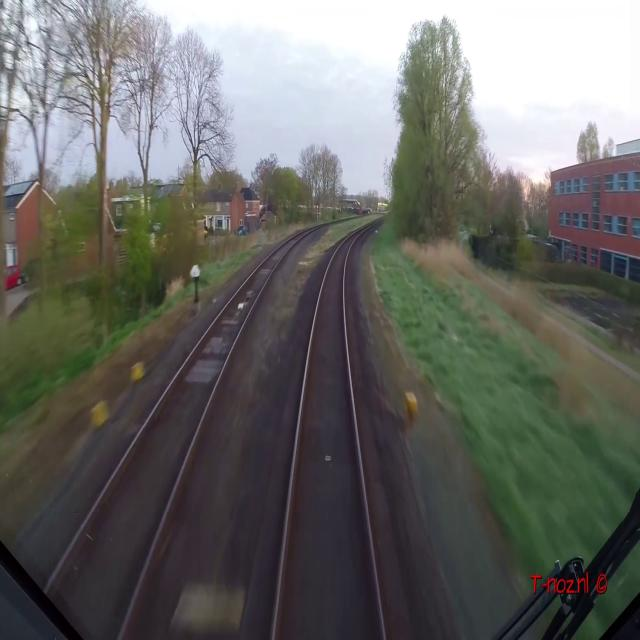rail-track: (57, 225, 321, 631), (275, 218, 381, 639)
